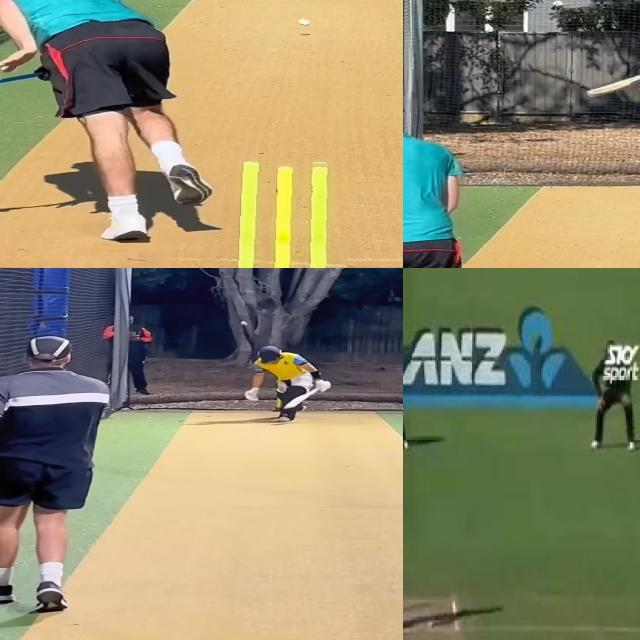Cricket ball: (298, 17, 311, 26), (239, 320, 249, 326)
Stumps: (223, 158, 351, 268)
